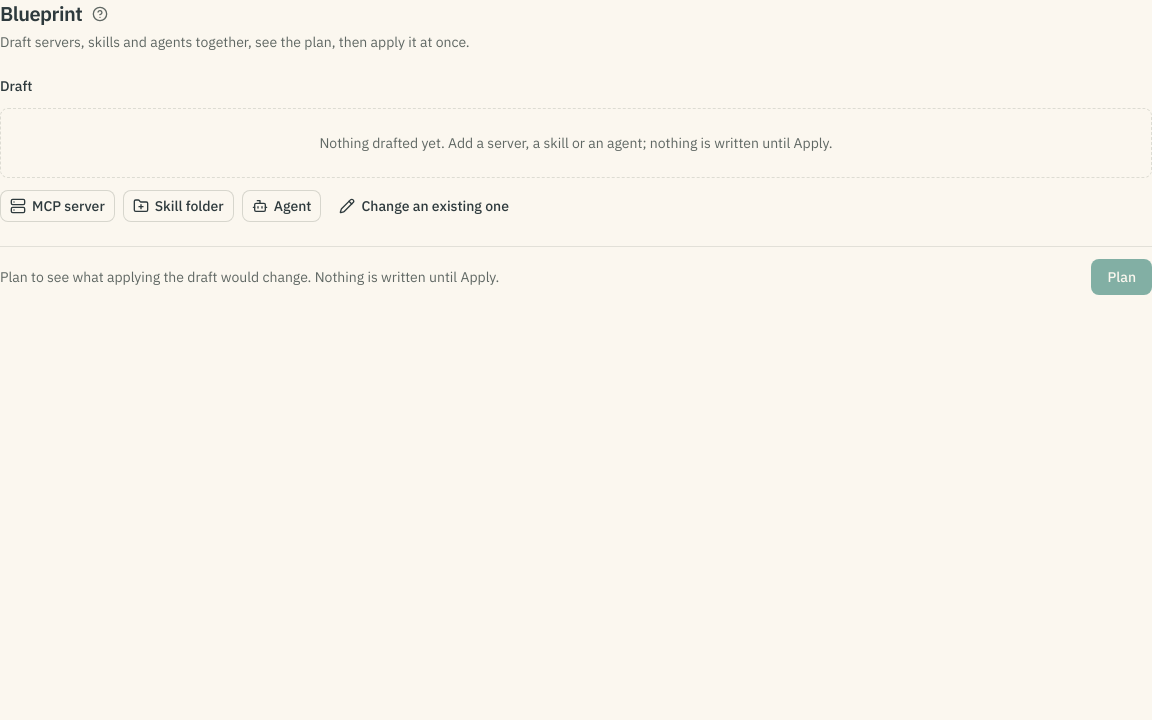
Test case: composing a draft › applies the plan it showed, with its digest, and empties the draft
Click the button "MCP server": (57, 206) top-left (0, 190), bottom-right (115, 222)
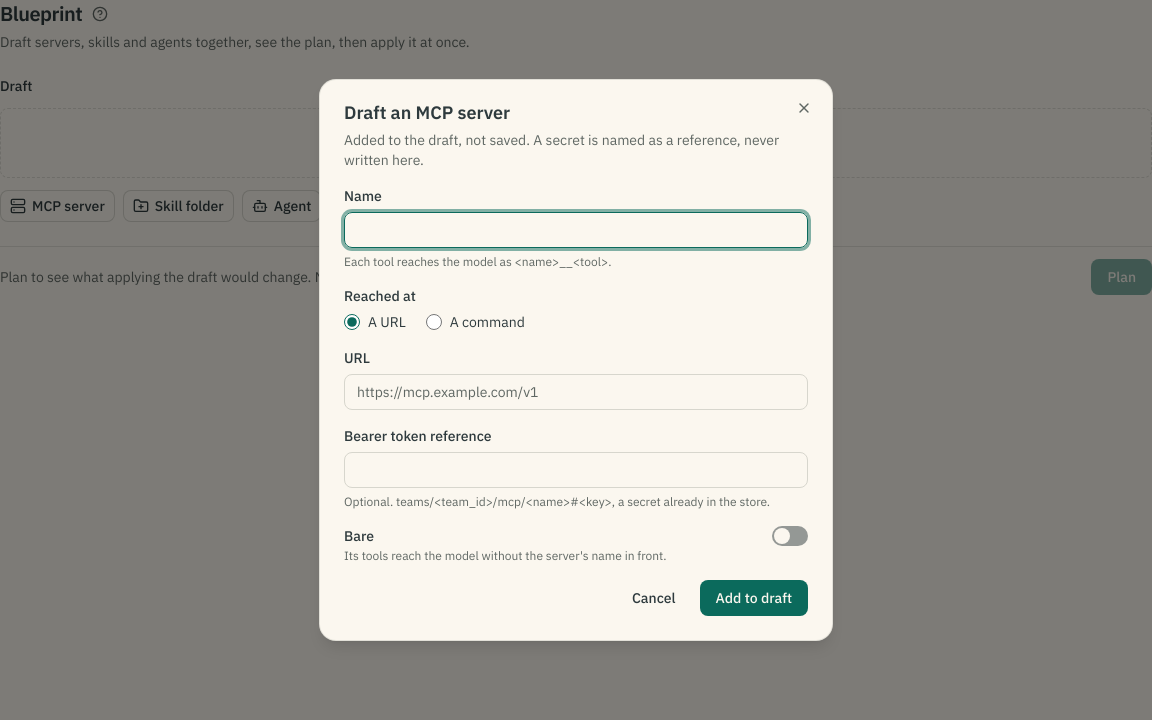
In the field labelled "Name": (576, 230) top-left (344, 212), bottom-right (808, 248), type "helpdesk"
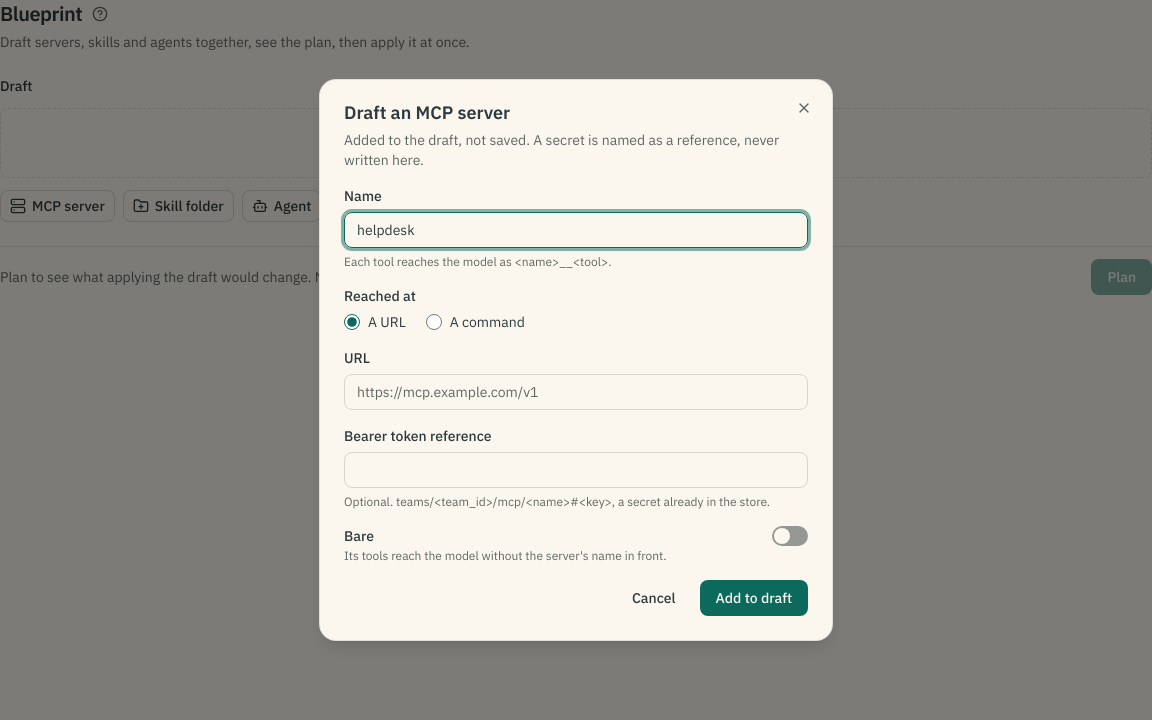
In the field labelled "URL": (576, 392) top-left (344, 374), bottom-right (808, 410), type "https://h.example/mcp"
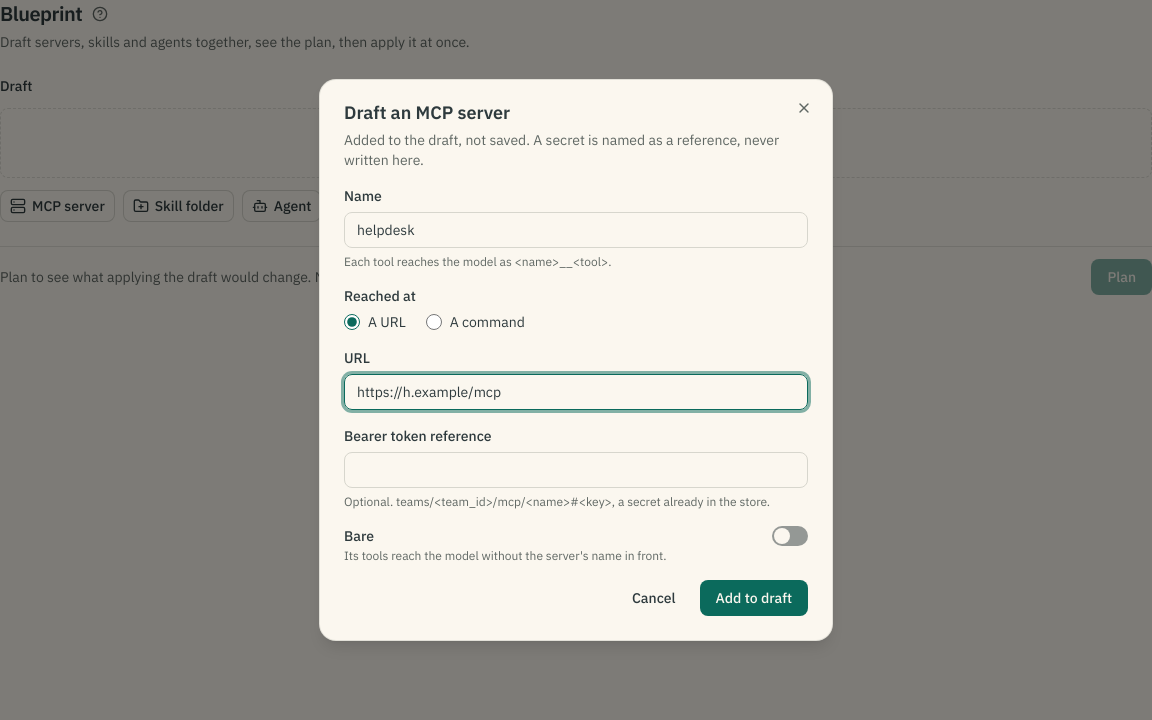
Click the button "Add to draft": (754, 598) top-left (700, 580), bottom-right (808, 616)
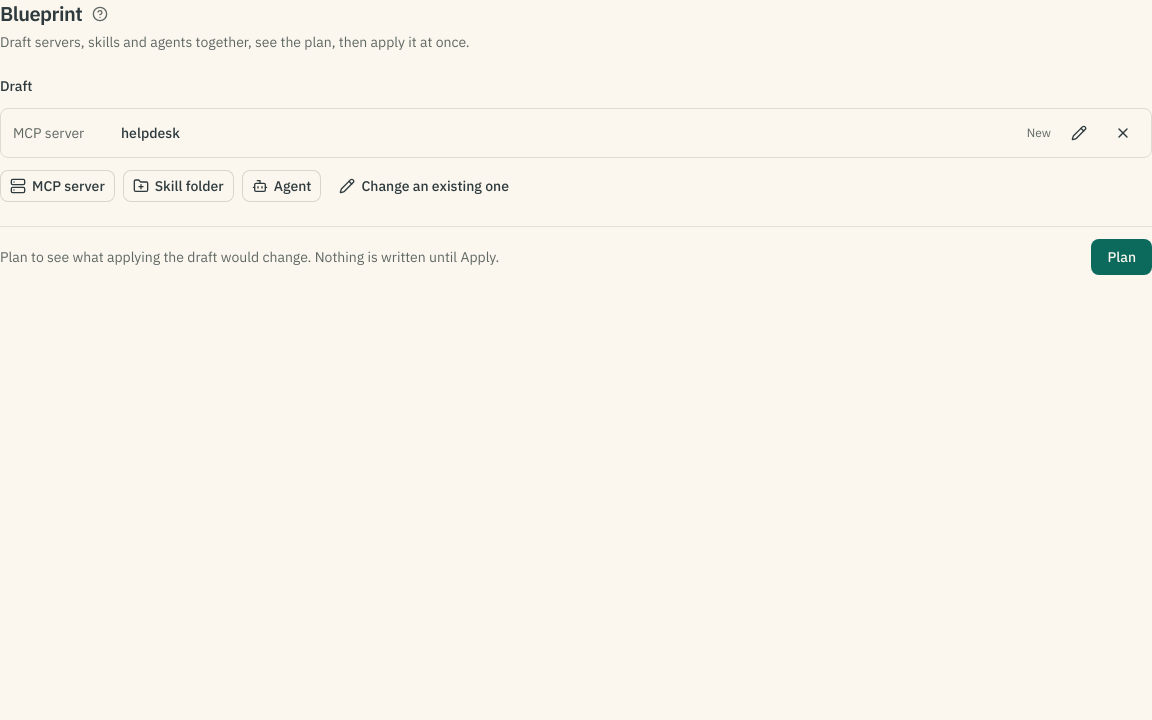
Result: the dialog is gone
Click the button "Plan": (1122, 257) top-left (1091, 239), bottom-right (1151, 275)
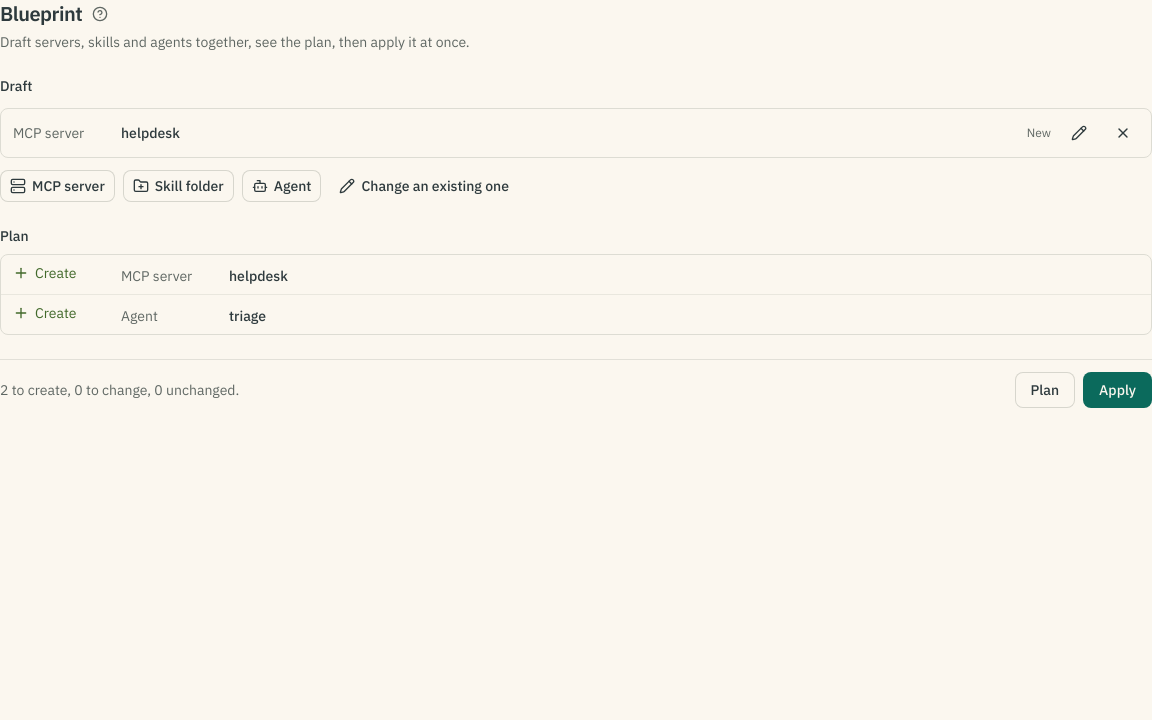
Click the button "Apply": (1118, 390) top-left (1083, 372), bottom-right (1151, 408)
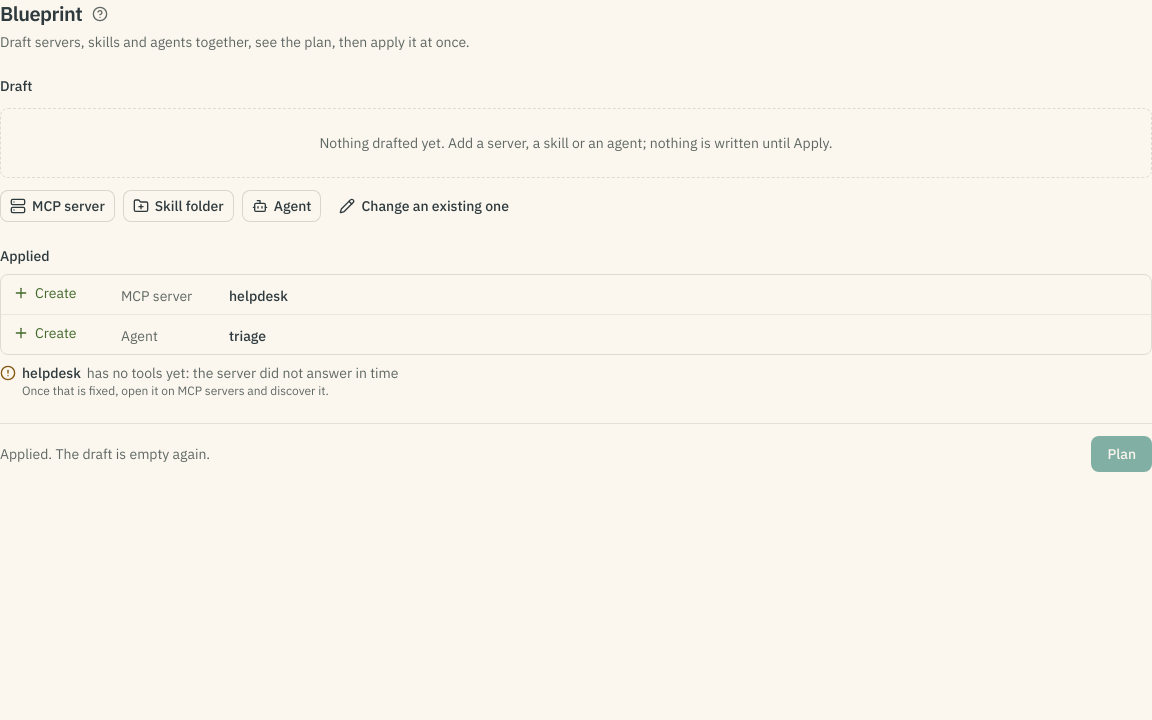
Result: the heading "Applied" is shown at top-left (0, 247), bottom-right (50, 265)
Result: the text "Nothing drafted yet" is shown at top-left (320, 134), bottom-right (832, 152)
Result: the text "has no tools yet: the server did not answer in time" is shown at top-left (87, 363), bottom-right (398, 383)
